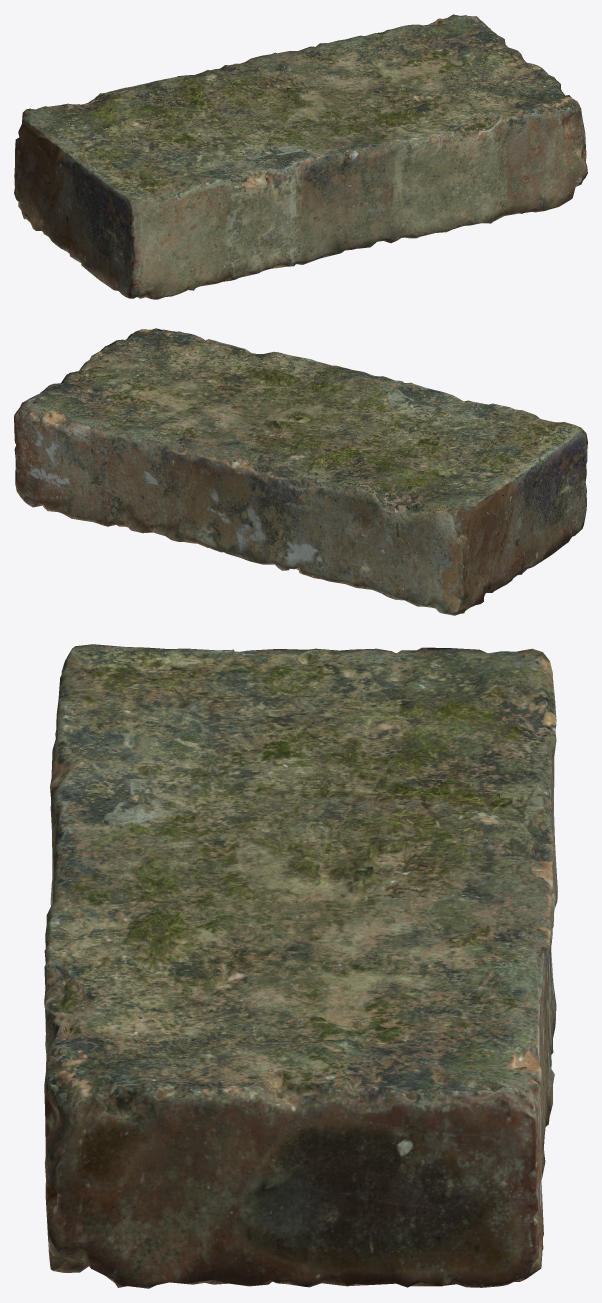
The model's file is PX_Fired_brick_01_LOD2.fbx.
The picture shows the model from 3 angles, top to bottom: view 1: azimuth 30°, elevation 25°; view 2: azimuth 150°, elevation 25°; view 3: azimuth 270°, elevation 25°; orthographic projection. The views are drawn at different scales.
Visible parts, largest first — view 1: PX_Fired_brick_01_LOD2; view 2: PX_Fired_brick_01_LOD2; view 3: PX_Fired_brick_01_LOD2.
Boxes of the visible parts, x1,y1,x2,y2 form: PX_Fired_brick_01_LOD2: (14, 14, 587, 299); PX_Fired_brick_01_LOD2: (14, 328, 587, 615); PX_Fired_brick_01_LOD2: (44, 644, 557, 1288).
Size of the model in its own units: 26.81 by 6.14 by 13.03.
